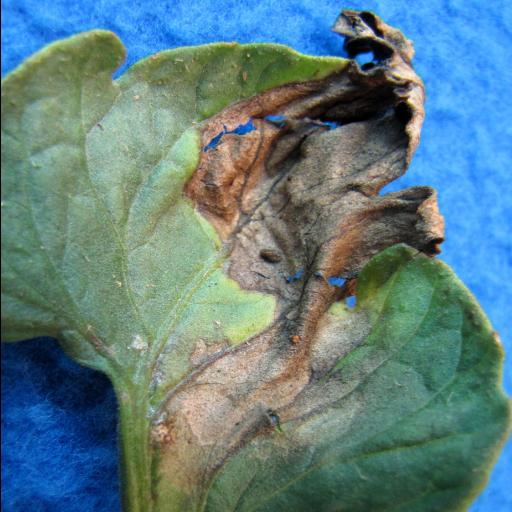Late Blight: (9, 6, 506, 506)
